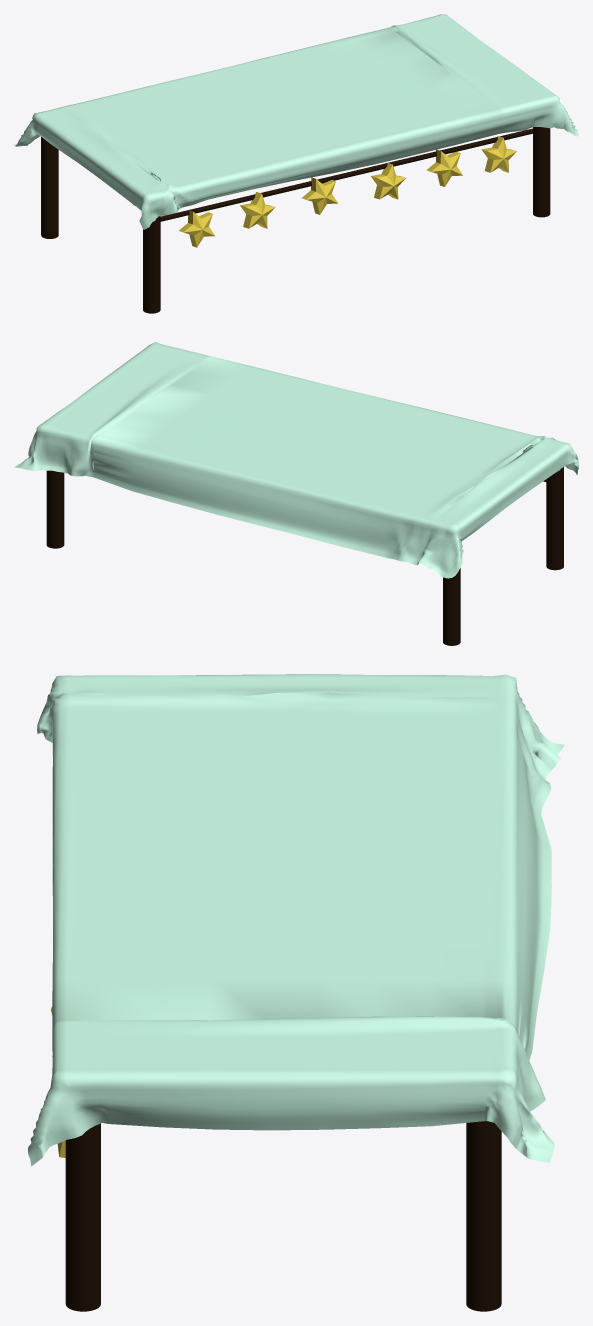
File: Prom Table.fbx
3 views of the same model, one above another, from view 1: azimuth 30°, elevation 25°; view 2: azimuth 150°, elevation 25°; view 3: azimuth 270°, elevation 25° (orthographic). The views are drawn at different scales.
Visible parts, largest first — view 1: Plane.001, Cylinder.004, Cylinder.001, Cylinder.003, Cylinder, Star.001, Star, Star.004, Star.002, Star.005, Star.003; view 2: Plane.001, Cylinder.003, Cylinder.002, Cylinder.001; view 3: Plane.001, Cylinder.002, Cylinder.
Boxes of the visible parts, bbox=[...] form: Plane.001: bbox=[14, 14, 578, 229]; Cylinder.004: bbox=[160, 128, 533, 221]; Cylinder.001: bbox=[41, 137, 58, 238]; Cylinder.003: bbox=[143, 216, 160, 313]; Cylinder: bbox=[533, 127, 550, 217]; Star.001: bbox=[240, 192, 275, 228]; Star: bbox=[178, 210, 214, 247]; Star.004: bbox=[481, 136, 516, 172]; Star.002: bbox=[371, 162, 405, 199]; Star.005: bbox=[426, 149, 462, 186]; Star.003: bbox=[301, 177, 337, 214]; Plane.001: bbox=[14, 342, 578, 578]; Cylinder.003: bbox=[546, 467, 563, 570]; Cylinder.002: bbox=[46, 470, 64, 548]; Cylinder.001: bbox=[443, 568, 460, 645]; Plane.001: bbox=[28, 674, 564, 1166]; Cylinder.002: bbox=[466, 1121, 501, 1311]; Cylinder: bbox=[65, 1123, 100, 1311].
Bounding box in the file's own units: 451 × 121 × 240.
